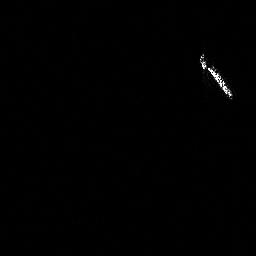ship: (196, 48, 237, 104)
